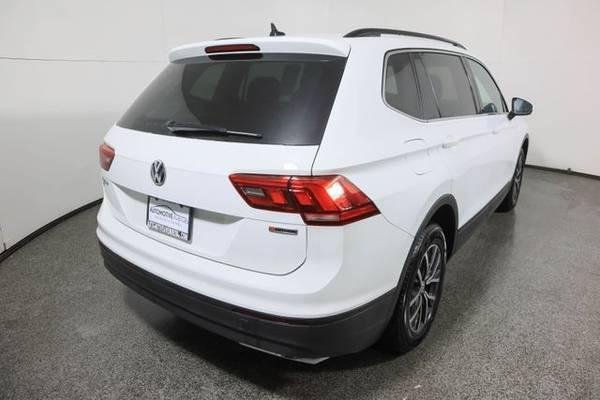Front_Right_Door: (489, 115, 523, 214)
Front_Right_Window: (463, 55, 513, 115)
Rear_Bumper: (94, 197, 414, 357)
Rear_Fender: (314, 51, 445, 233)
Rear_Right_Door: (426, 115, 496, 251)
Rear_Right_Window: (412, 49, 481, 119)
Rear_Windshield: (116, 54, 346, 148)
Right_Taillight: (225, 173, 378, 227)
Roof: (172, 32, 480, 142)
Tailgate: (101, 128, 316, 272)
Wheel: (397, 233, 447, 348)
